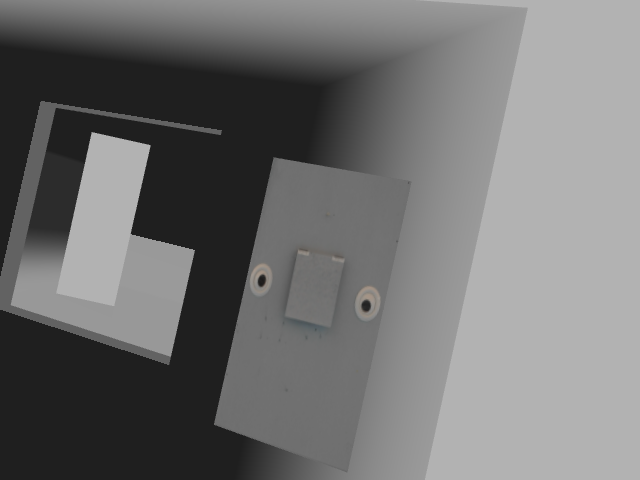facade: (248, 248, 380, 328)
